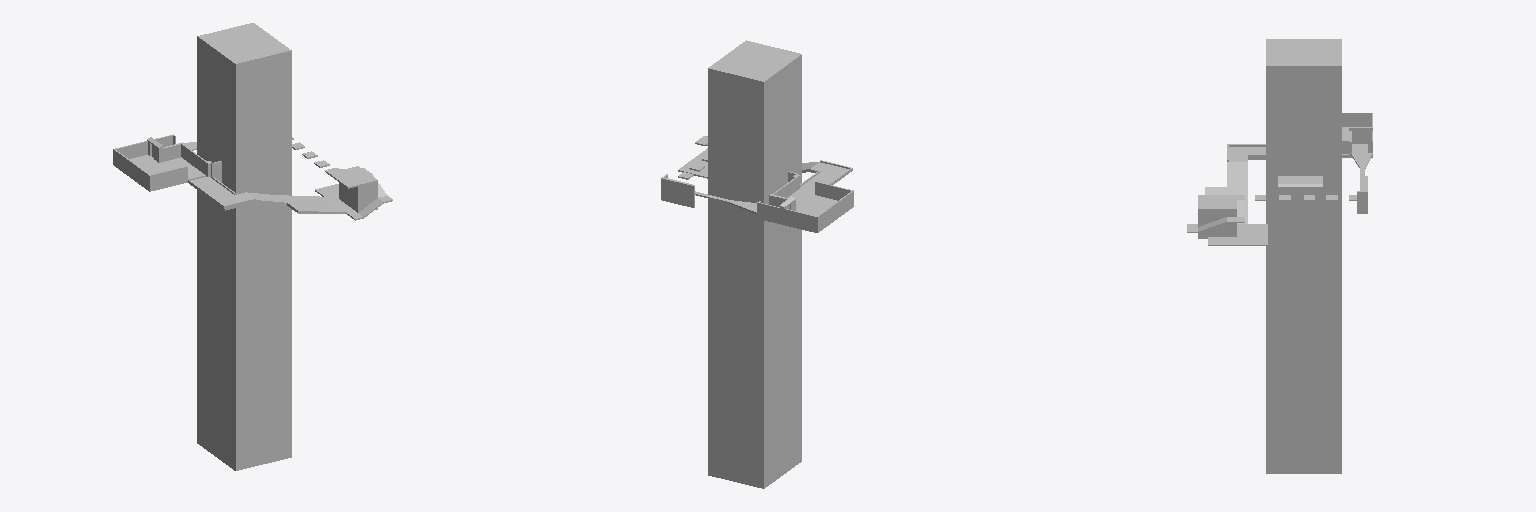
File: easy_drops_raw.obj
3 renders of one model, left to right at view 1: azimuth 30°, elevation 25°; view 2: azimuth 150°, elevation 25°; view 3: azimuth 270°, elevation 25°, orthographic.
Parts seen in each view (by area): view 1: entity0_brush45, entity0_brush44, entity0_brush20, entity0_brush10, entity0_brush6, entity0_brush8; view 2: entity0_brush45, entity0_brush40, entity0_brush9, entity0_brush38, entity0_brush10, entity0_brush8; view 3: entity0_brush41, entity0_brush40, entity0_brush44, entity0_brush43, entity0_brush45, entity0_brush20, entity0_brush7, entity0_brush5.
Boxes of the visible parts, x1=… form: entity0_brush45: x1=197, y1=27, x2=274, y2=470; entity0_brush44: x1=269, y1=46, x2=291, y2=461; entity0_brush20: x1=339, y1=166, x2=377, y2=212; entity0_brush10: x1=129, y1=155, x2=206, y2=190; entity0_brush6: x1=277, y1=195, x2=345, y2=213; entity0_brush8: x1=113, y1=149, x2=150, y2=191; entity0_brush45: x1=725, y1=45, x2=801, y2=488; entity0_brush40: x1=708, y1=61, x2=733, y2=478; entity0_brush9: x1=757, y1=202, x2=816, y2=232; entity0_brush38: x1=663, y1=177, x2=694, y2=207; entity0_brush10: x1=788, y1=190, x2=836, y2=215; entity0_brush8: x1=816, y1=190, x2=853, y2=232; entity0_brush41: x1=1278, y1=176, x2=1322, y2=473; entity0_brush40: x1=1323, y1=58, x2=1341, y2=473; entity0_brush44: x1=1266, y1=58, x2=1277, y2=473; entity0_brush43: x1=1278, y1=58, x2=1322, y2=165; entity0_brush45: x1=1266, y1=39, x2=1341, y2=175; entity0_brush20: x1=1198, y1=200, x2=1236, y2=238; entity0_brush7: x1=1208, y1=224, x2=1267, y2=245; entity0_brush5: x1=1227, y1=162, x2=1247, y2=186.
Size of the model in its own units: 2192 by 4432 by 1840.